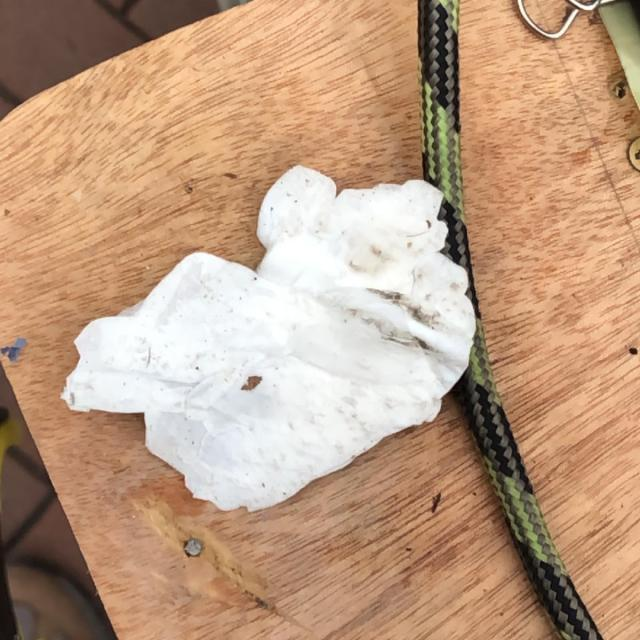Paper: (59, 164, 478, 511)
